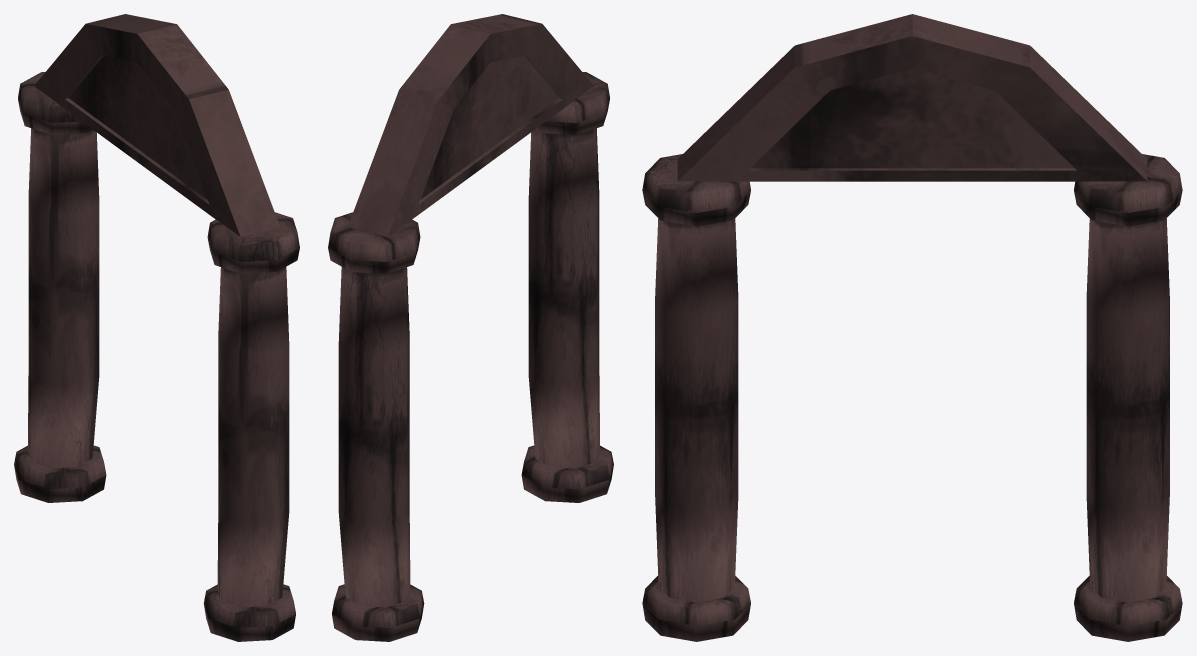
Rendered from MOD_L1_Doorway1.fbx.
3 renders of one model, left to right at view 1: azimuth 30°, elevation 25°; view 2: azimuth 150°, elevation 25°; view 3: azimuth 270°, elevation 25°, orthographic. The views are drawn at different scales.
Parts seen in each view (by area): view 1: Room01_Main.003; view 2: Room01_Main.003; view 3: Room01_Main.003.
Boxes of the visible parts, <box> form: Room01_Main.003: <box>14,14,299,641</box>; Room01_Main.003: <box>328,14,613,641</box>; Room01_Main.003: <box>642,14,1182,641</box>.
Size of the model in its own units: 9.83 by 57.04 by 46.66.
